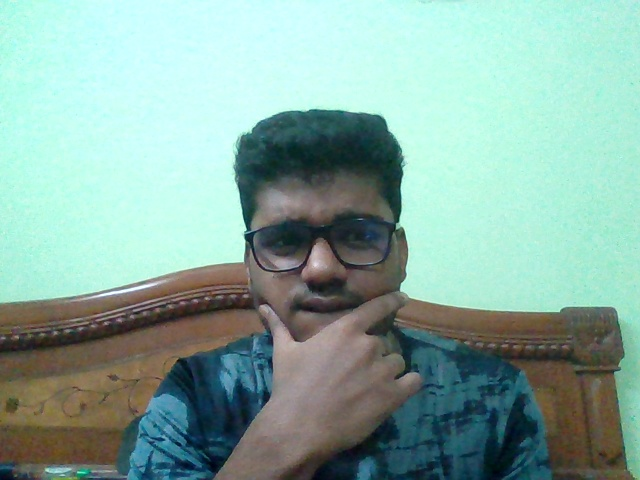Sheesh: (235, 108, 423, 452)
